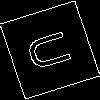U: (24, 25, 82, 74)
